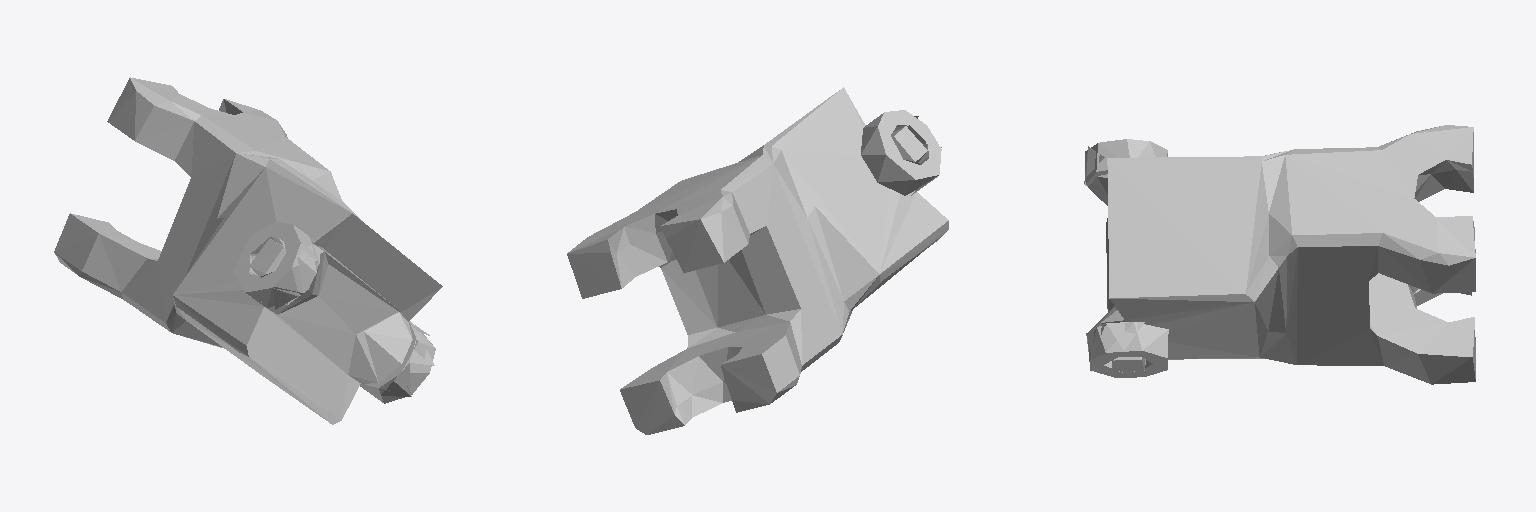
Rendered from right_visual_thumb_pp_mesh_mesh.obj.
The picture shows the model from 3 angles: view 1: azimuth 30°, elevation 25°; view 2: azimuth 150°, elevation 25°; view 3: azimuth 270°, elevation 25°; orthographic projection.
Size of the model in its own units: 0.0226 by 0.0235 by 0.0363.